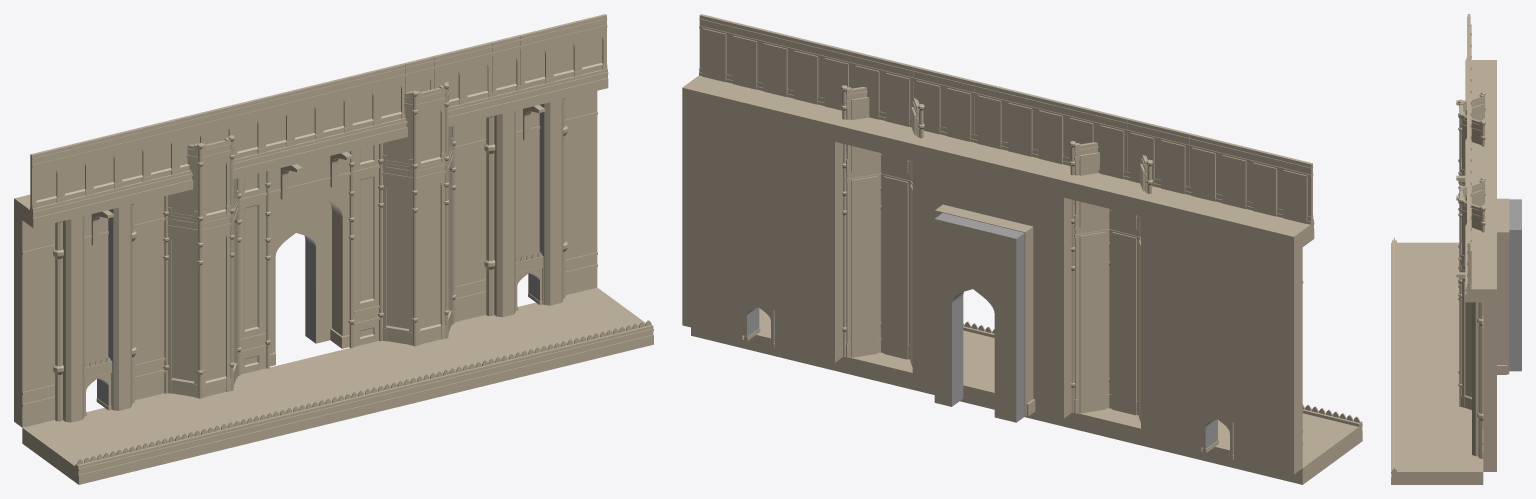
Rendered from ForLightingTest 1.fbx.
3 views of the same model, side by side, from view 1: azimuth 30°, elevation 25°; view 2: azimuth 150°, elevation 25°; view 3: azimuth 270°, elevation 25° (orthographic). The views are drawn at different scales.
Parts seen in each view (by area): view 1: Rampart10, FloorSection63, FloorSection279, FloorSection49, FloorSection282, FloorSection280, FloorSection281; view 2: Rampart10, FloorSection63, FloorSection279, FloorSection49, FloorSection281, FloorSection280, FloorSection282; view 3: Rampart10, FloorSection279, FloorSection282, FloorSection281, FloorSection280, FloorSection49, FloorSection63.
Part boxes in pixels (<box>): Rampart10: <box>163,49,464,398</box>; FloorSection63: <box>14,119,177,427</box>; FloorSection279: <box>455,14,608,321</box>; FloorSection49: <box>22,393,222,484</box>; FloorSection282: <box>455,287,653,379</box>; FloorSection280: <box>167,357,366,449</box>; FloorSection281: <box>310,323,509,414</box>; Rampart10: <box>835,51,1159,422</box>; FloorSection63: <box>1141,126,1314,474</box>; FloorSection279: <box>682,14,853,362</box>; FloorSection49: <box>1149,404,1362,484</box>; FloorSection281: <box>844,321,994,409</box>; FloorSection280: <box>1025,408,1149,447</box>; FloorSection282: <box>691,308,843,372</box>; Rampart10: <box>1456,71,1521,409</box>; FloorSection279: <box>1456,186,1496,471</box>; FloorSection282: <box>1391,409,1483,484</box>; FloorSection281: <box>1391,352,1471,414</box>; FloorSection280: <box>1391,295,1459,357</box>; FloorSection49: <box>1391,237,1459,299</box>; FloorSection63: <box>1456,14,1496,117</box>.
Bounding box in the file's own units: 4000 × 1963 × 964.
